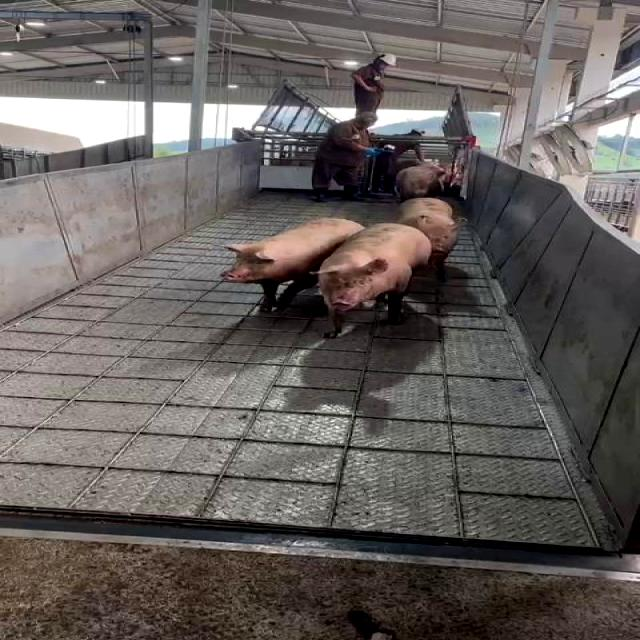pig: (225, 219, 362, 310), (319, 224, 428, 336), (399, 198, 464, 279)
